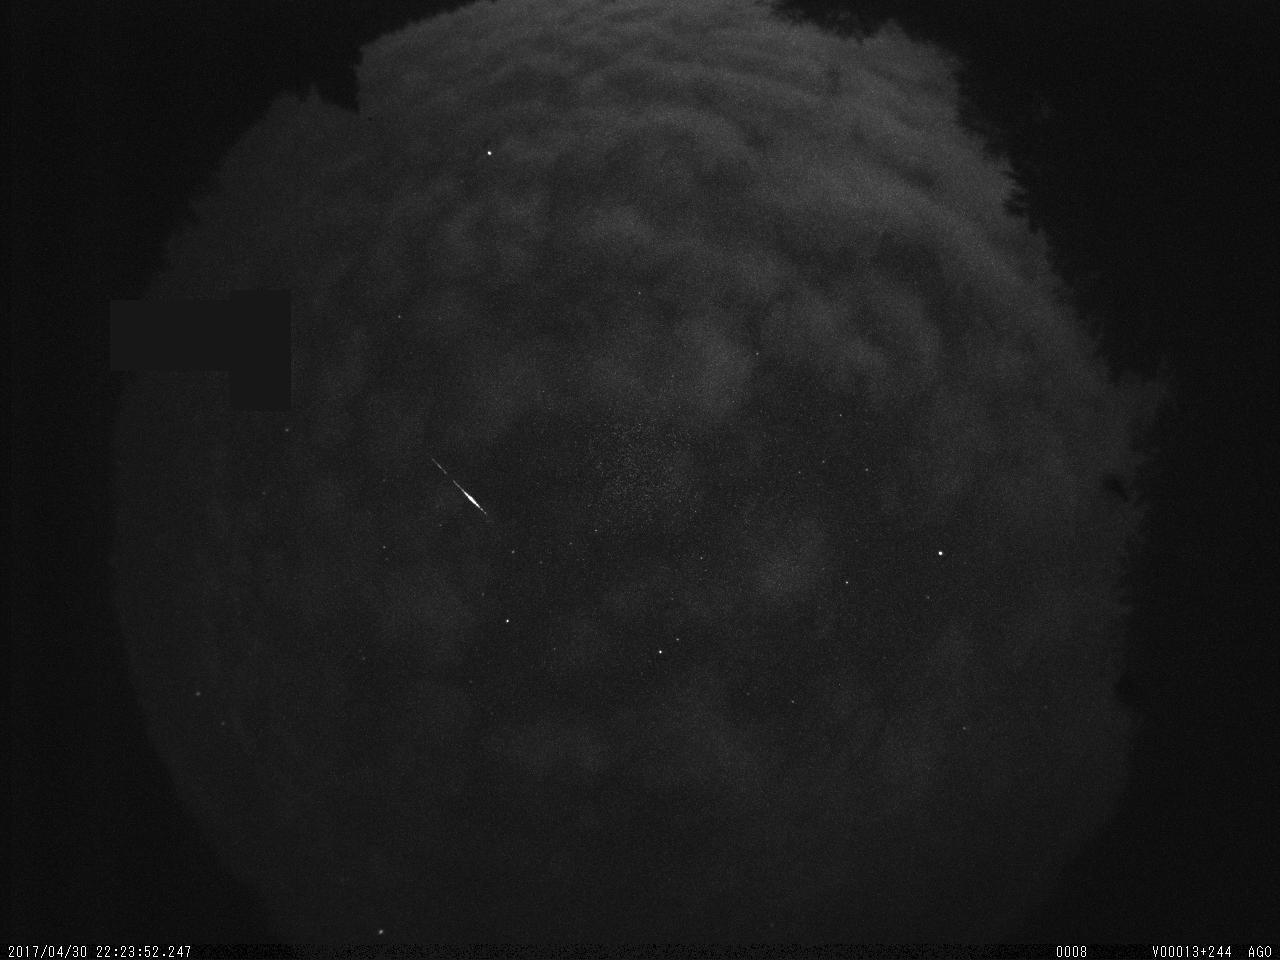meteor: (421, 449, 498, 527)
